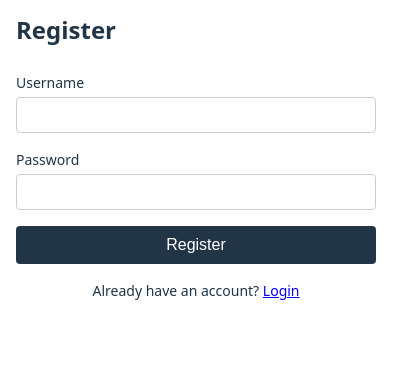
it: registerPage › shows server error on duplicate username
Type "taken" into the field labelled "Username" at point(196, 115), box left=16, top=97, right=376, bottom=133
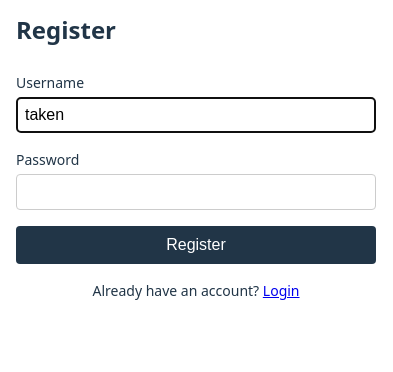
Type "password123" into the password field labelled "Password" at point(196, 192), box left=16, top=174, right=376, bottom=210
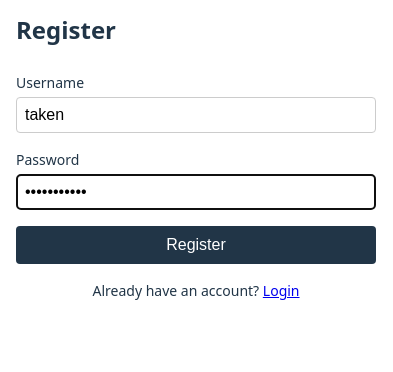
Click the button "Register" at point(196, 245), box left=16, top=226, right=376, bottom=264
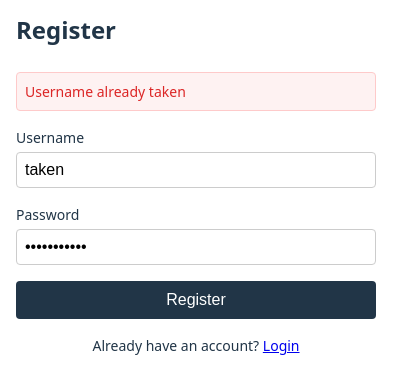
Expected: the text "Username already taken" is shown, left=16, top=72, right=376, bottom=111
